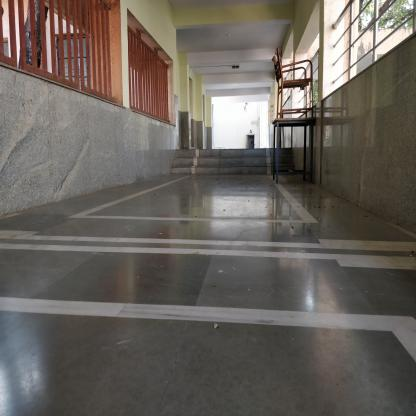stairs: (177, 150, 273, 176)
